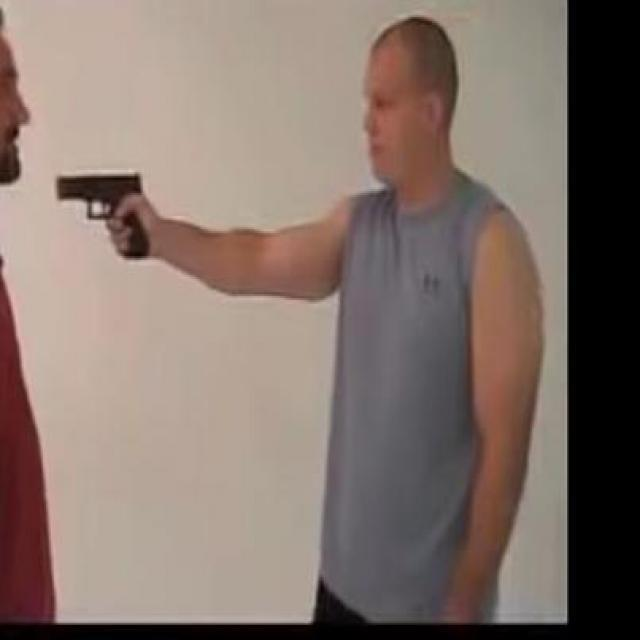gun: (50, 166, 150, 262)
